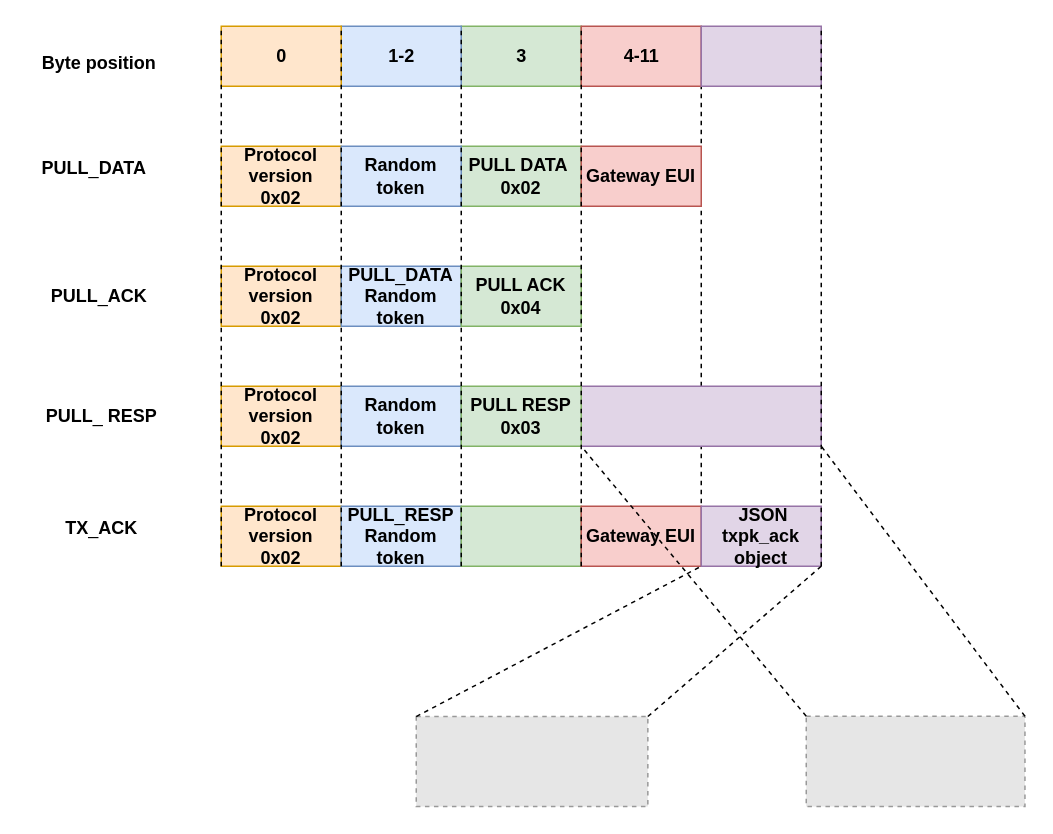
Image size: 1053x834. Some labels were removed from this diagram. Grey dashed boxes stand in for pictures. Each missing label, with the centre of its shape:
"12-end" goes at pixel 760 55.
"JSON txpk object" goes at pixel 700 415.
"TX ACK 0x05" goes at pixel 520 535.
